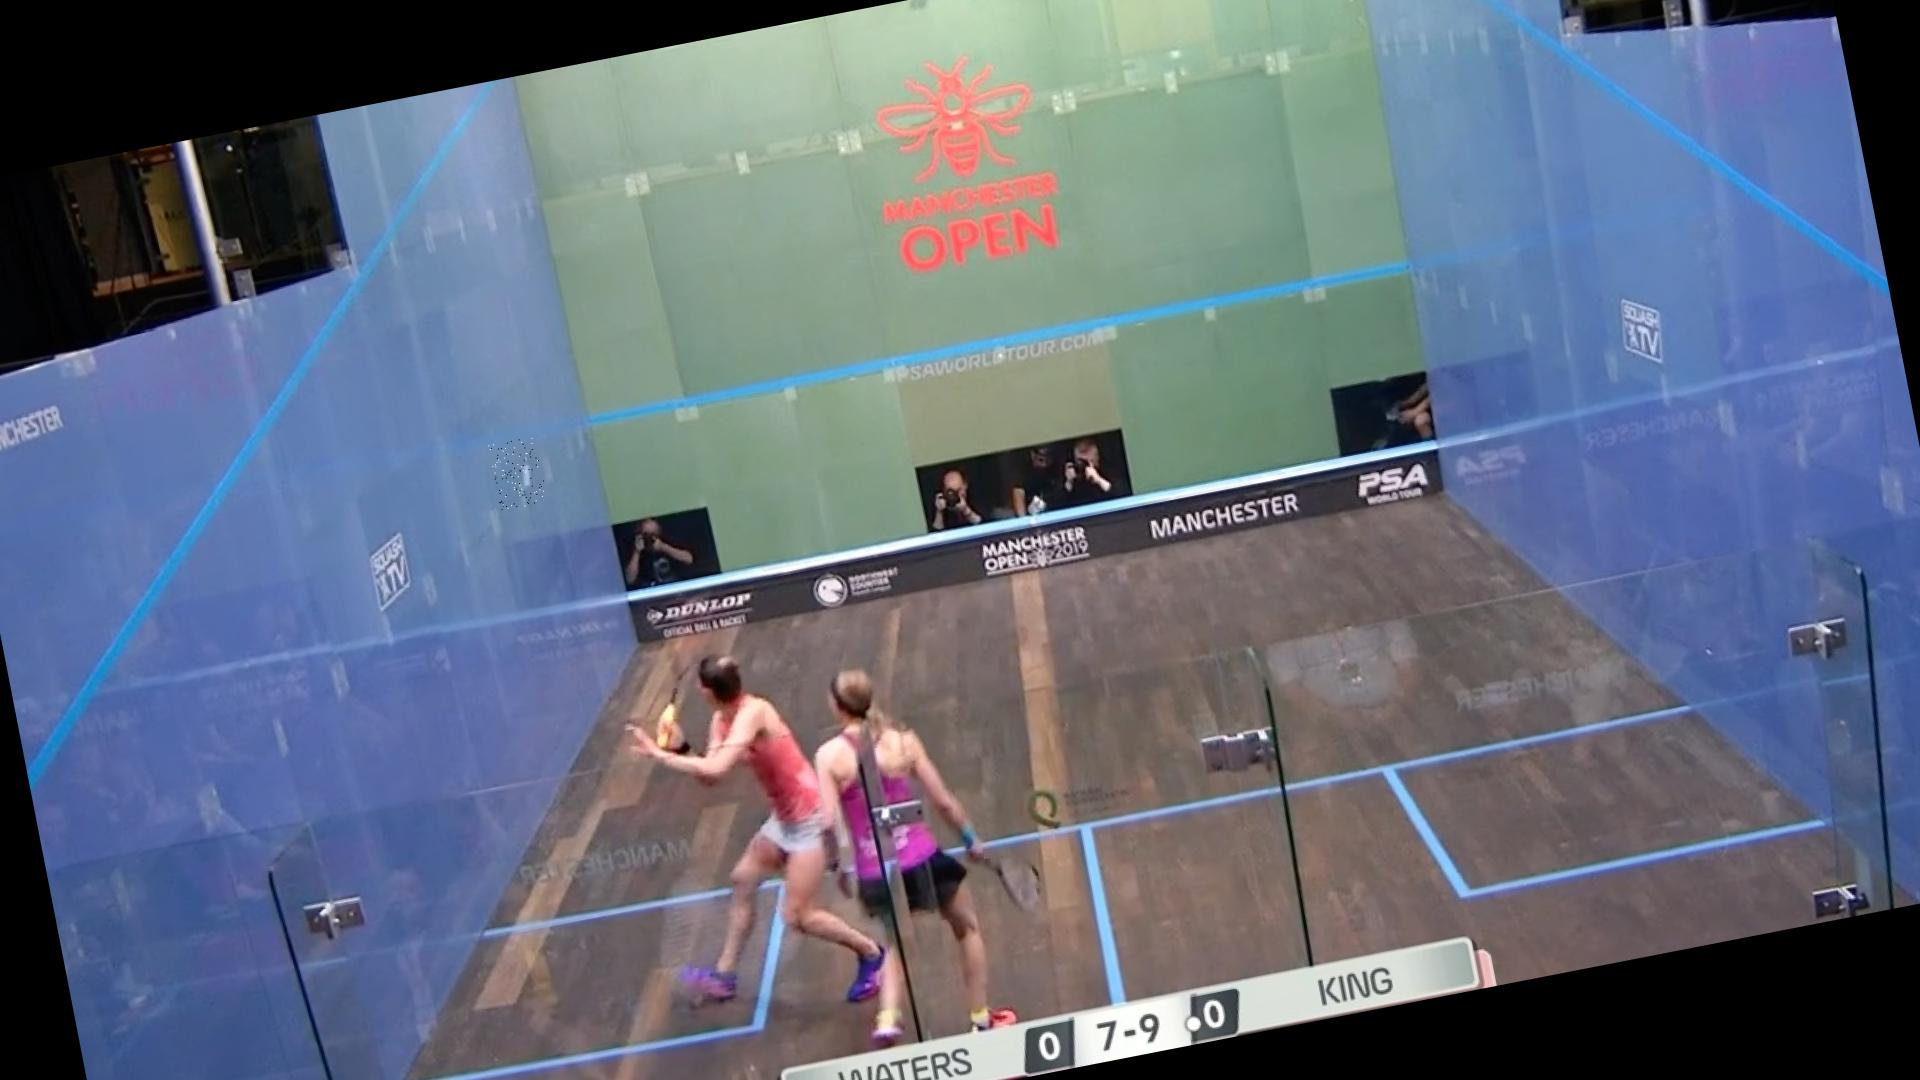Squash-Ball: (488, 436, 549, 512)
